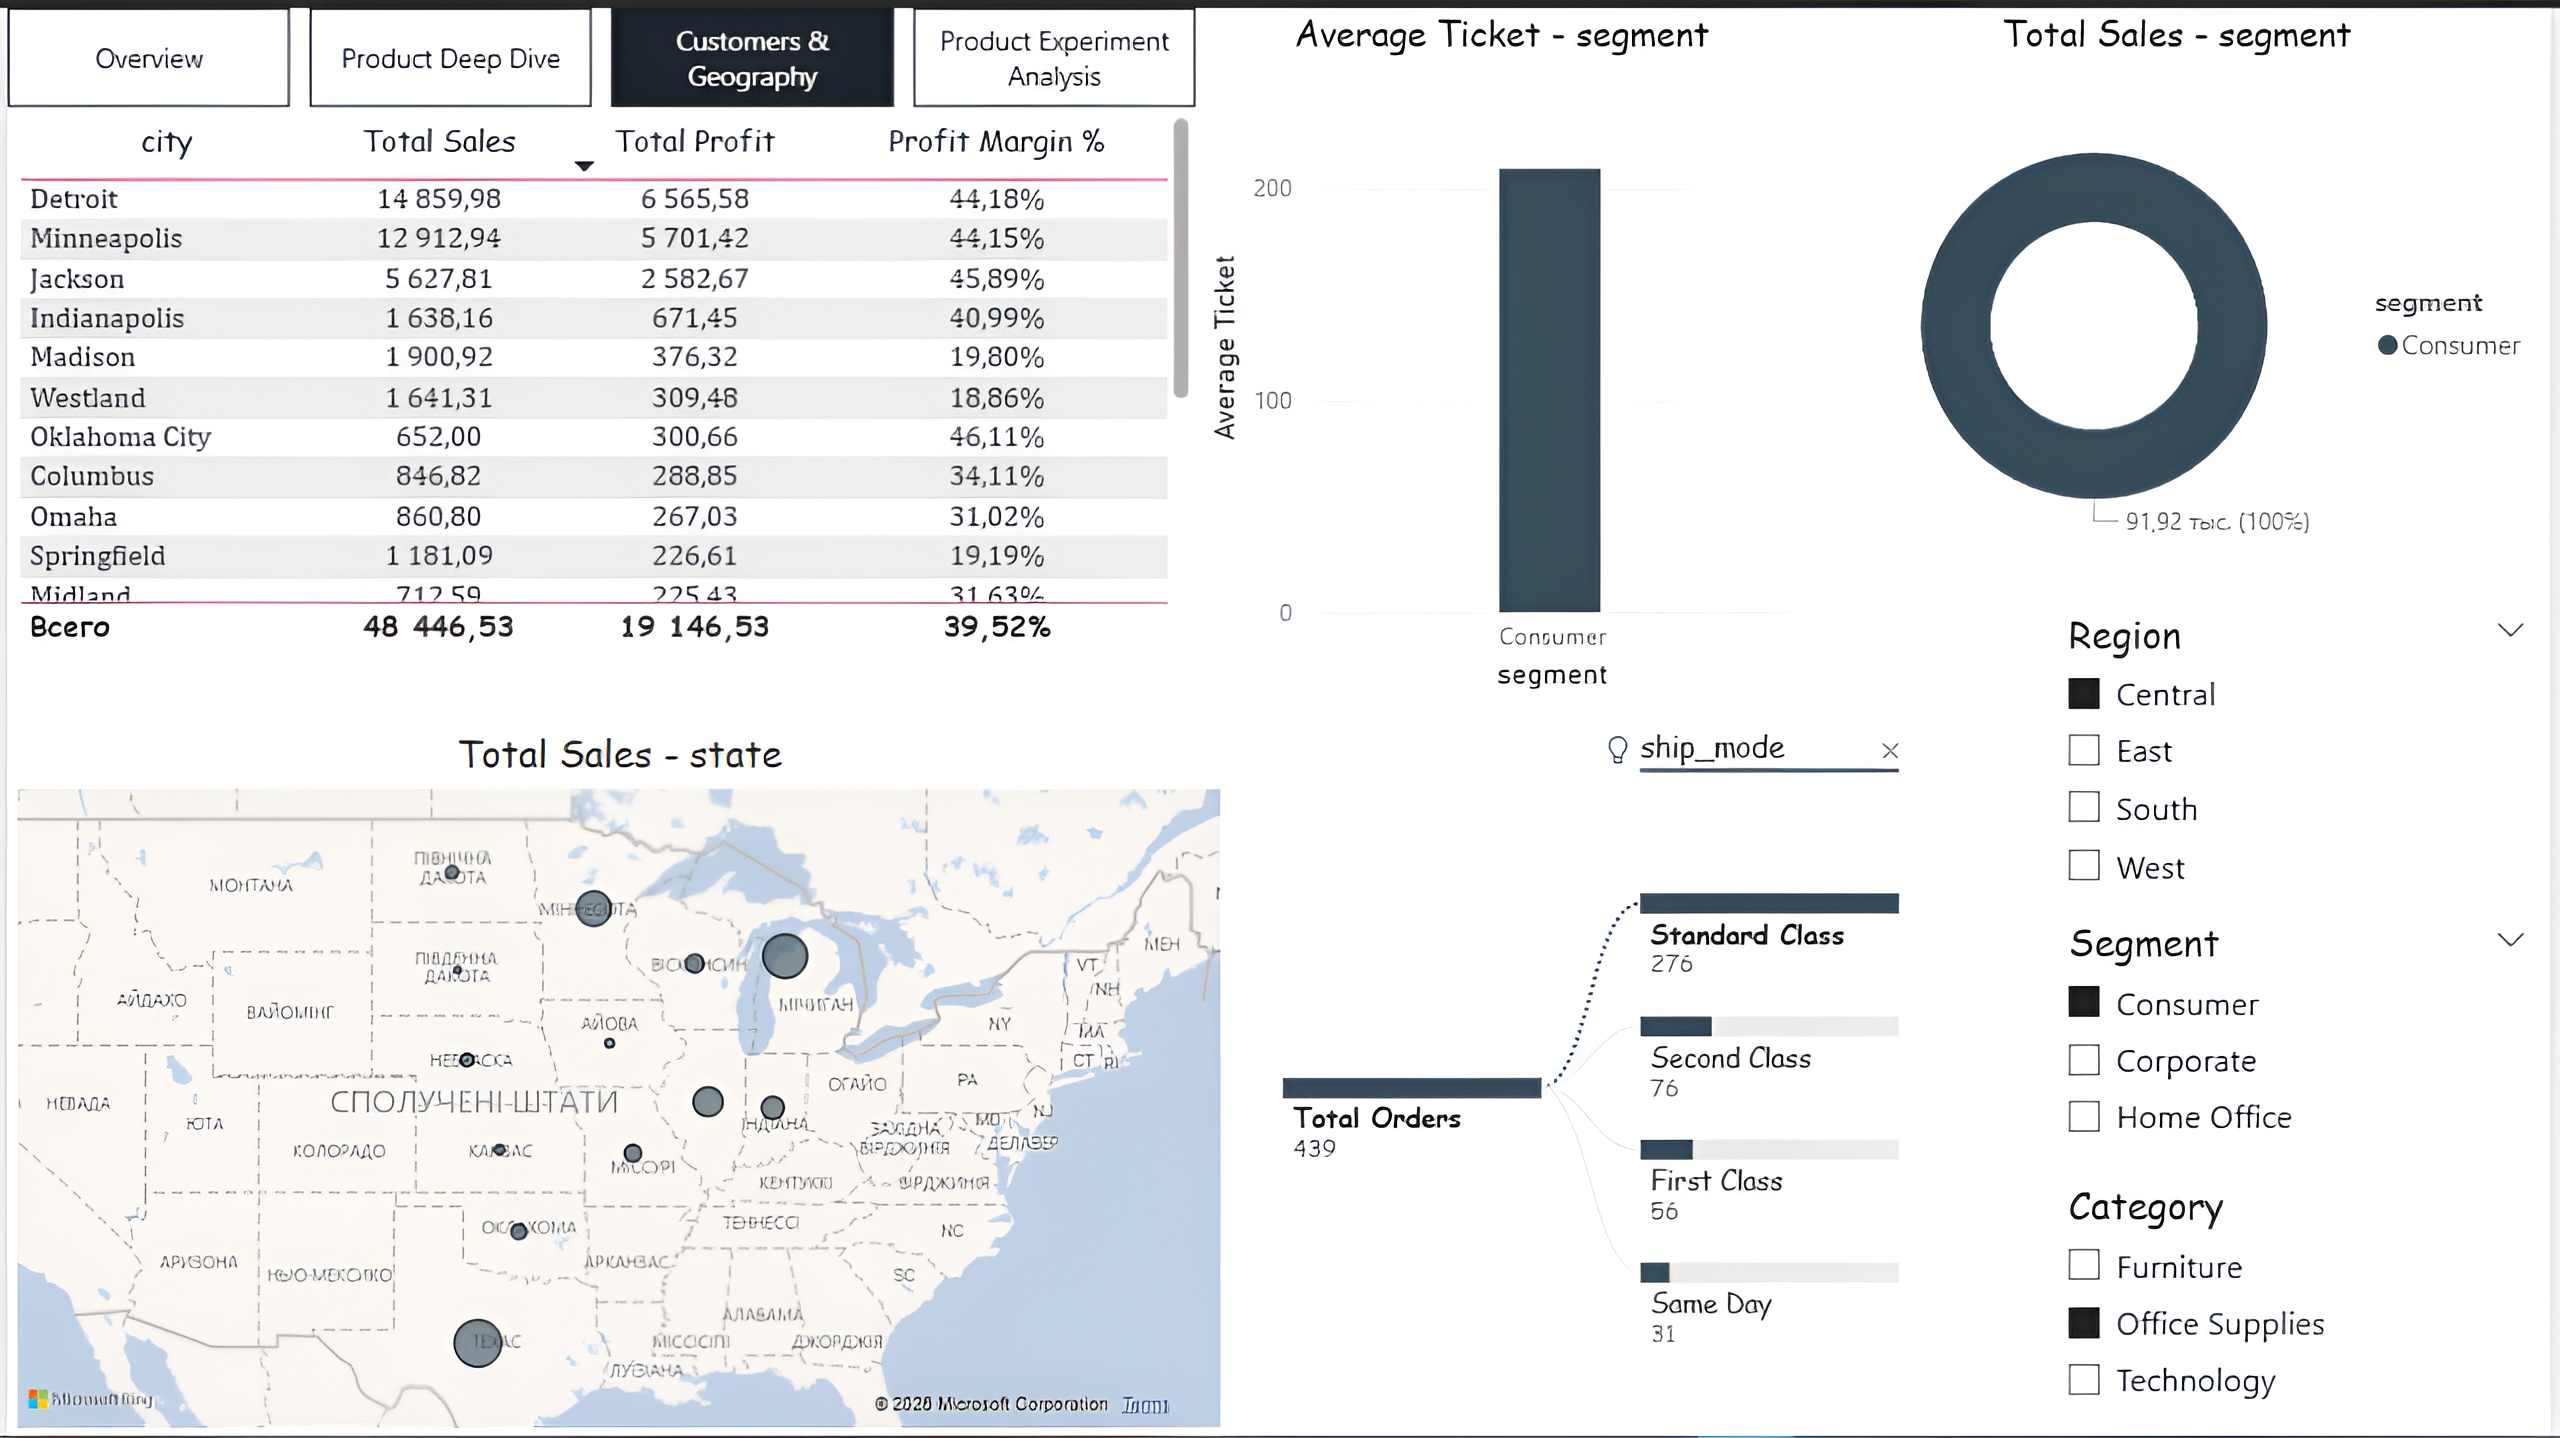

This screenshot's page, from the dashboard's own definition file:
{"tool":"powerbi","page":{"name":"Customers & Geography","canvas":[1280,720],"ordinal":2},"visuals":[{"type":"map","title":"Total Sales - state","fields":{"Category":["Geography.state"],"Size":["Orders.Total Sales"]},"box":[0,361.4,615.7,358.6],"z":0},{"type":"donutChart","title":"Total Sales - segment","fields":{"Category":["Customers.segment"],"Y":["Orders.Total Sales"]},"box":[904.3,0,375.7,297.1],"z":1000},{"type":"lineClusteredColumnComboChart","title":"Average Ticket - segment","fields":{"Category":["Customers.segment"],"Y":["Orders.Average Ticket"]},"box":[600,0,304.3,348.6],"z":2000},{"type":"decompositionTreeVisual","fields":{"ExplainBy":["Orders.ship_mode"],"Analyze":["Orders.Total Orders"]},"box":[612.9,348.6,411.4,371.4],"z":3000},{"type":"tableEx","fields":{"Values":["Geography.city","Orders.Total Sales","Orders.Total Profit","Orders.Profit Margin %"]},"box":[0,50,600,277.1],"z":4000},{"type":"slicer","fields":{"Values":["Geography.region"]},"box":[1024.3,297.1,255.7,155.7],"z":5000},{"type":"slicer","fields":{"Values":["Customers.segment"]},"box":[1024.3,452.9,255.7,132.9],"z":6000},{"type":"slicer","fields":{"Values":["Products.category"]},"box":[1024.3,585.7,255.7,134.3],"z":7000},{"type":"pageNavigator","box":[0,0,600,50],"z":8000}]}

Visuals, with their boxes in screenshot pixels (x1, y1, x2, y2), scaled from the page's 1280x720 canvas onto the 2560x1438 screenshot:
"Total Sales - state" map: bbox(0, 722, 1231, 1437)
"Total Sales - segment" donutChart: bbox(1809, 0, 2559, 593)
"Average Ticket - segment" lineClusteredColumnComboChart: bbox(1200, 0, 1809, 696)
decompositionTreeVisual - Orders.ship_mode x Orders.Total Orders: bbox(1226, 696, 2049, 1437)
tableEx - Geography.city x Orders.Total Sales: bbox(0, 100, 1200, 653)
slicer - Geography.region: bbox(2049, 593, 2559, 904)
slicer - Customers.segment: bbox(2049, 905, 2559, 1170)
slicer - Products.category: bbox(2049, 1170, 2559, 1437)
pageNavigator: bbox(0, 0, 1200, 100)
